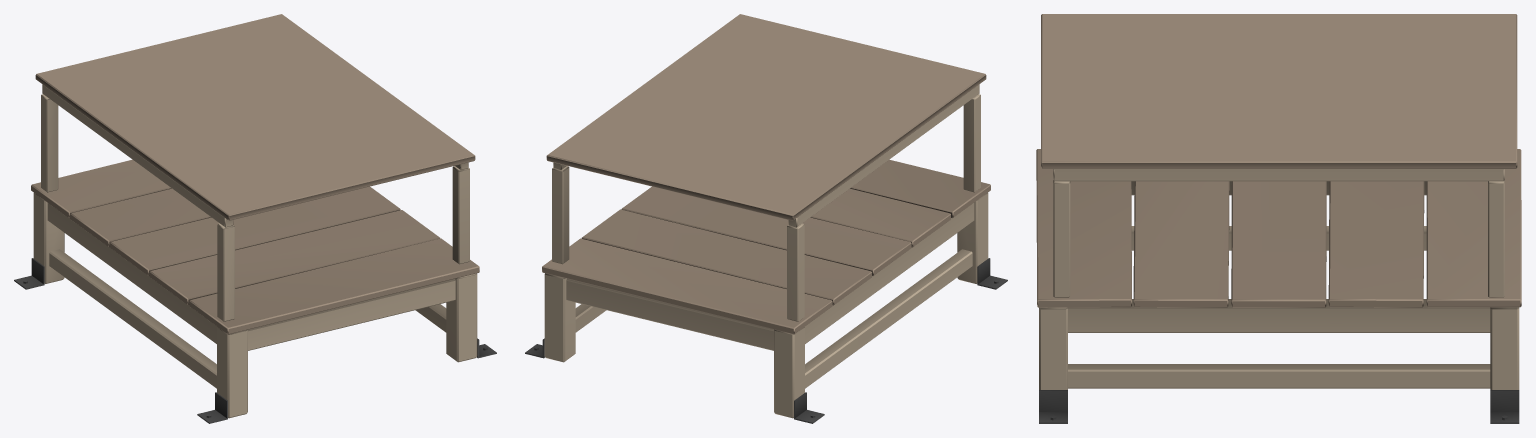
The model's file is stash_stand.glb.
The picture shows the model from 3 angles, left to right: view 1: azimuth 30°, elevation 25°; view 2: azimuth 150°, elevation 25°; view 3: azimuth 270°, elevation 25°; orthographic projection. The views are drawn at different scales.
Parts seen in each view (by area): view 1: static; view 2: static; view 3: static.
Boxes of the visible parts, box(x1,y1,x2,y2) form: static: box(14, 14, 496, 423); static: box(525, 14, 1007, 423); static: box(1036, 14, 1521, 423).
Bounding box in the file's own units: 0.978 × 0.66 × 1.16.
